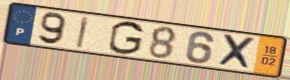6: (184, 30, 216, 65)
8: (147, 25, 180, 60)
9: (36, 12, 68, 46)
G: (107, 20, 146, 56)
I: (75, 15, 92, 50)
X: (216, 33, 258, 72)
